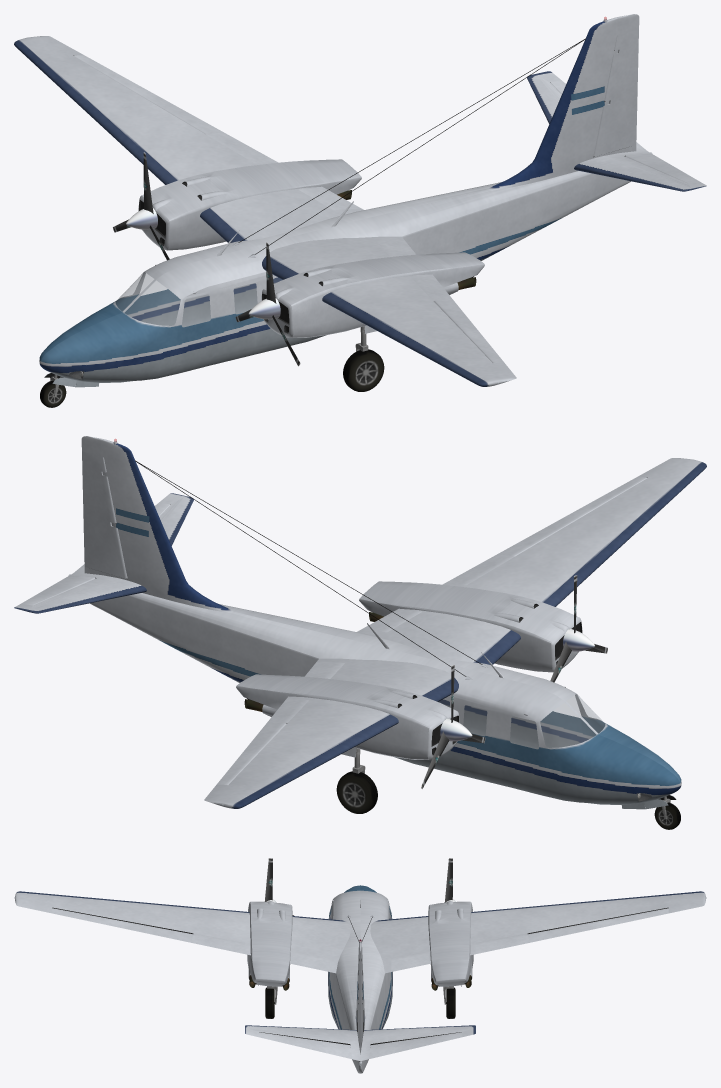
The model's file is commander.dae.
3 renders of one model, top to bottom at view 1: azimuth 30°, elevation 25°; view 2: azimuth 150°, elevation 25°; view 3: azimuth 270°, elevation 25°, orthographic. The views are drawn at different scales.
Visible parts, largest first — view 1: fuselage, ailes, moteurs, direction, ailes2, vitres, portecrew, aileronD, roueG, aileronG, cables, voletD2 (+6 smaller); view 2: fuselage, ailes, moteurs, direction, vitres, ailes2, aileronG, roueD, portecrew, aileronD, cables, voletG2 (+4 smaller); view 3: ailes, moteurs, fuselage, ailes2, aileronG, aileronD, profondeurG, profondeurD, trous, voletG2, voletD2, voletG1 (+2 smaller).
Part boxes in pixels (x1,y1,x2,y2): fuselage: (39, 14, 639, 382); ailes: (14, 36, 516, 386); moteurs: (138, 159, 484, 337); direction: (593, 29, 638, 156); ailes2: (527, 71, 706, 191); vitres: (69, 272, 257, 378); portecrew: (178, 292, 214, 367); aileronD: (74, 55, 223, 134); roueG: (343, 349, 384, 391); aileronG: (434, 300, 503, 362); cables: (238, 38, 585, 254); voletD2: (206, 132, 276, 163); fuselage: (81, 436, 681, 804); ailes: (204, 458, 706, 808); moteurs: (236, 581, 582, 759); direction: (82, 451, 127, 578); vitres: (439, 694, 651, 800); ailes2: (14, 493, 193, 613); aileronG: (497, 477, 646, 556); roueD: (336, 771, 377, 813); portecrew: (550, 694, 586, 747); aileronD: (217, 722, 286, 784); cables: (135, 460, 482, 676); voletG2: (444, 554, 514, 585); ailes: (15, 891, 705, 973); moteurs: (247, 901, 473, 986); fuselage: (328, 885, 392, 1073); ailes2: (245, 1025, 475, 1061); aileronG: (52, 908, 192, 942); aileronD: (528, 908, 668, 942); profondeurG: (259, 1032, 351, 1058); profondeurD: (369, 1032, 461, 1058); trous: (52, 907, 668, 1046); voletG2: (191, 933, 245, 953); voletD2: (475, 933, 529, 953); voletG1: (292, 951, 329, 971).
Size of the model in its own units: 11.25 by 15.04 by 4.48.
3 materials, 1 textured.
